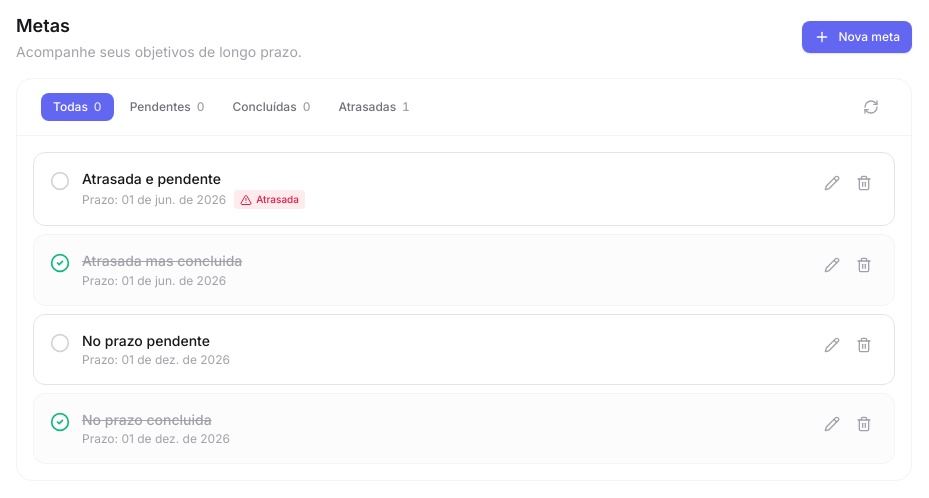
Scenario: GoalsPage — filtro de Atrasadas › filtro 'Atrasadas' mostra só a meta com target_date no passado e is_completed false
The width and height of the screenshot is (929, 498).
Click the button "Atrasadas1" at (374, 107), box [326,93,422,121]
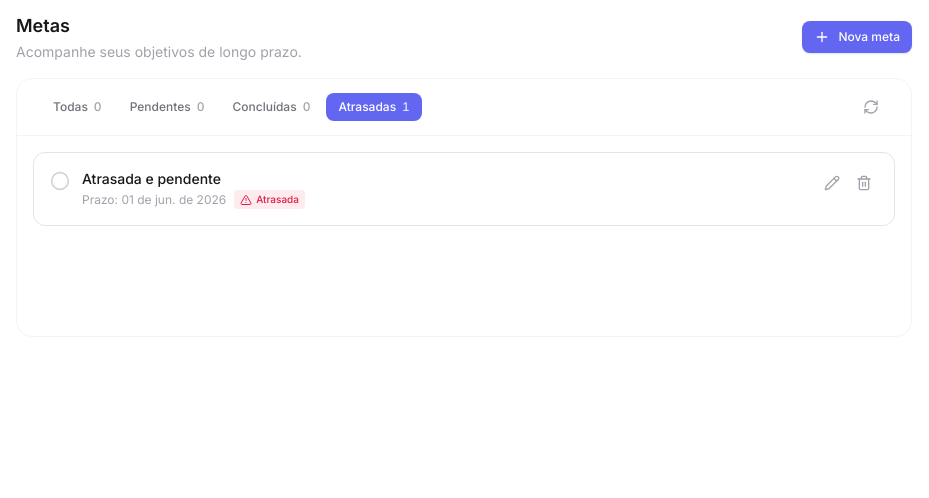
Now the text "Atrasada mas concluida" is gone
Now the text "No prazo pendente" is gone
Now the text "No prazo concluida" is gone
